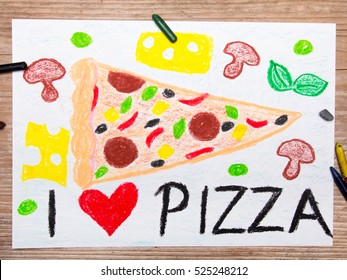heart: (76, 181, 139, 239)
